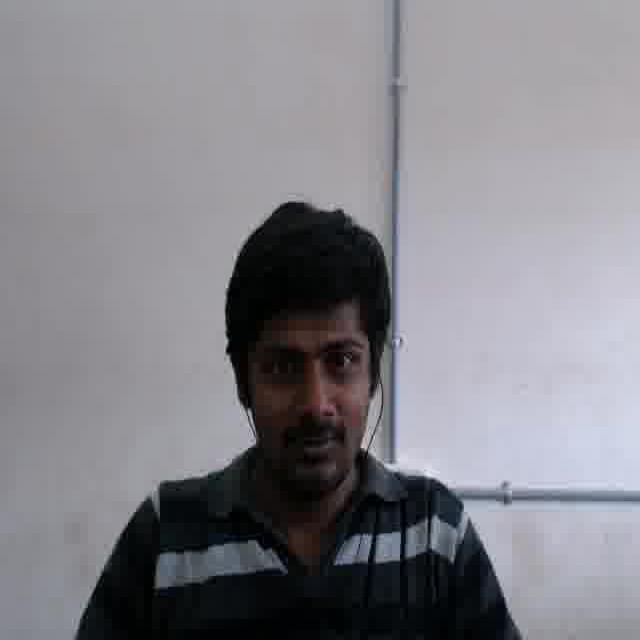Engaged: (247, 298, 369, 490)
